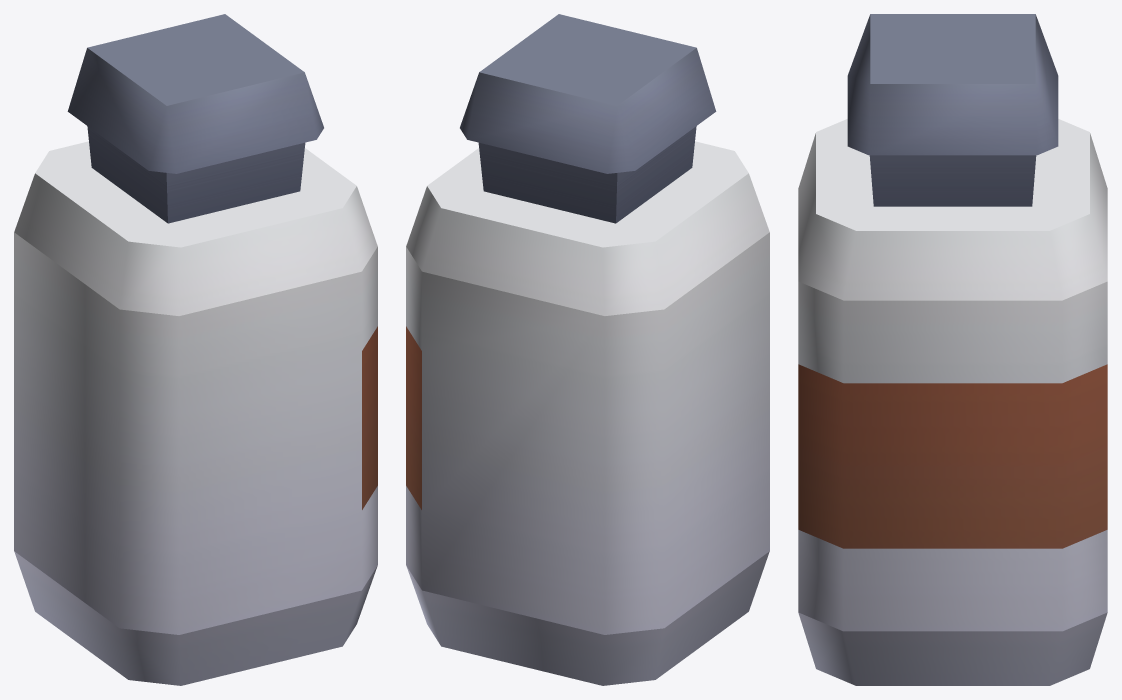
The model's file is kenney-food-shaker-pepper.glb.
3 renders of one model, left to right at view 1: azimuth 30°, elevation 25°; view 2: azimuth 150°, elevation 25°; view 3: azimuth 270°, elevation 25°, orthographic. The views are drawn at different scales.
Parts seen in each view (by area): view 1: shaker-pepper; view 2: shaker-pepper; view 3: shaker-pepper.
Boxes of the visible parts, x1,y1,x2,y2 form: shaker-pepper: [14, 14, 377, 685]; shaker-pepper: [406, 14, 769, 685]; shaker-pepper: [798, 14, 1107, 685].
Size of the model in its own units: 0.0949 by 0.196 by 0.0949.
Materials: 1 (1 with a texture image).
